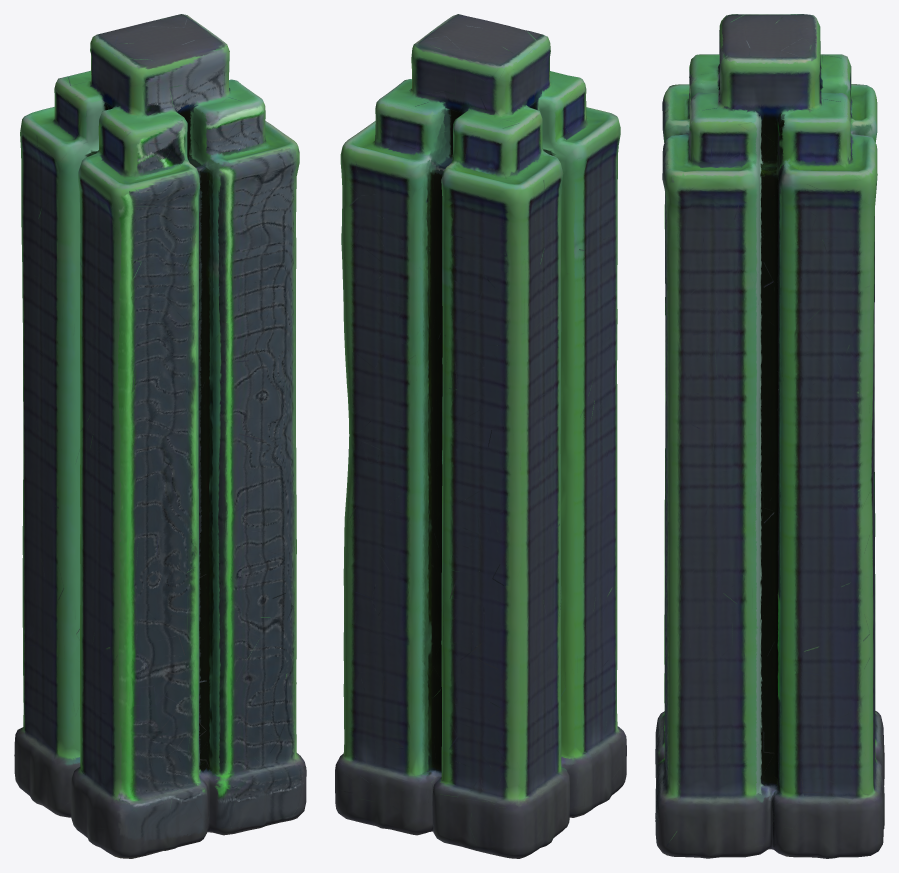
The model's file is bank-of-america-plaza.glb.
3 views of the same model, side by side, from view 1: azimuth 30°, elevation 25°; view 2: azimuth 150°, elevation 25°; view 3: azimuth 270°, elevation 25° (orthographic).
Visible parts, largest first — view 1: geometry_0; view 2: geometry_0; view 3: geometry_0.
Part boxes in pixels (<box>): geometry_0: <box>14,14,306,858</box>; geometry_0: <box>335,14,626,858</box>; geometry_0: <box>655,14,884,858</box>.
Size of the model in its own units: 0.5425 by 1.99 by 0.5347.
1 material, 1 textured.
